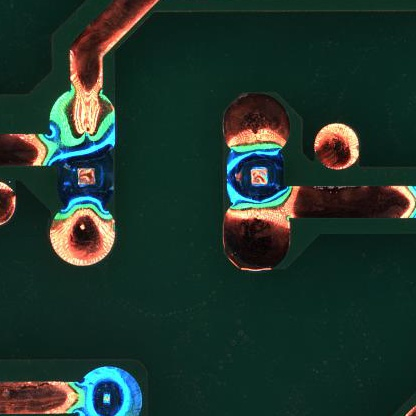spot: (55, 140, 115, 210), (222, 143, 287, 207), (79, 364, 142, 416)
